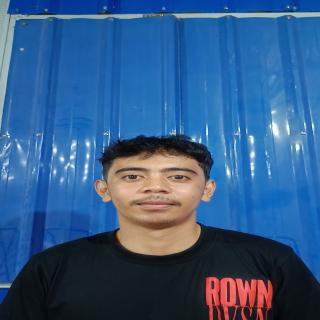Netral: (101, 151, 204, 228)
